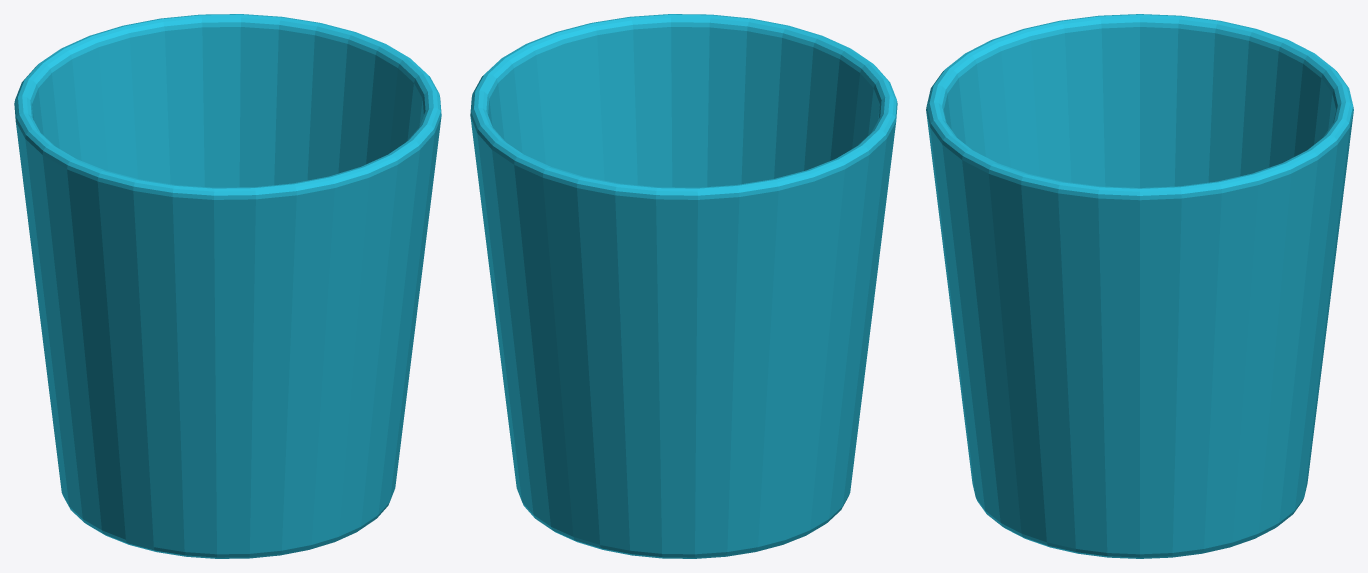
File: Cup.fbx
3 views of the same model, side by side, from view 1: azimuth 30°, elevation 25°; view 2: azimuth 150°, elevation 25°; view 3: azimuth 270°, elevation 25° (orthographic).
Parts seen in each view (by area): view 1: Cylinder; view 2: Cylinder; view 3: Cylinder.
Boxes of the visible parts, x1,y1,x2,y2 form: Cylinder: [14, 14, 441, 558]; Cylinder: [470, 14, 897, 558]; Cylinder: [926, 14, 1353, 558].
Bounding box in the file's own units: 199 × 200 × 199.
